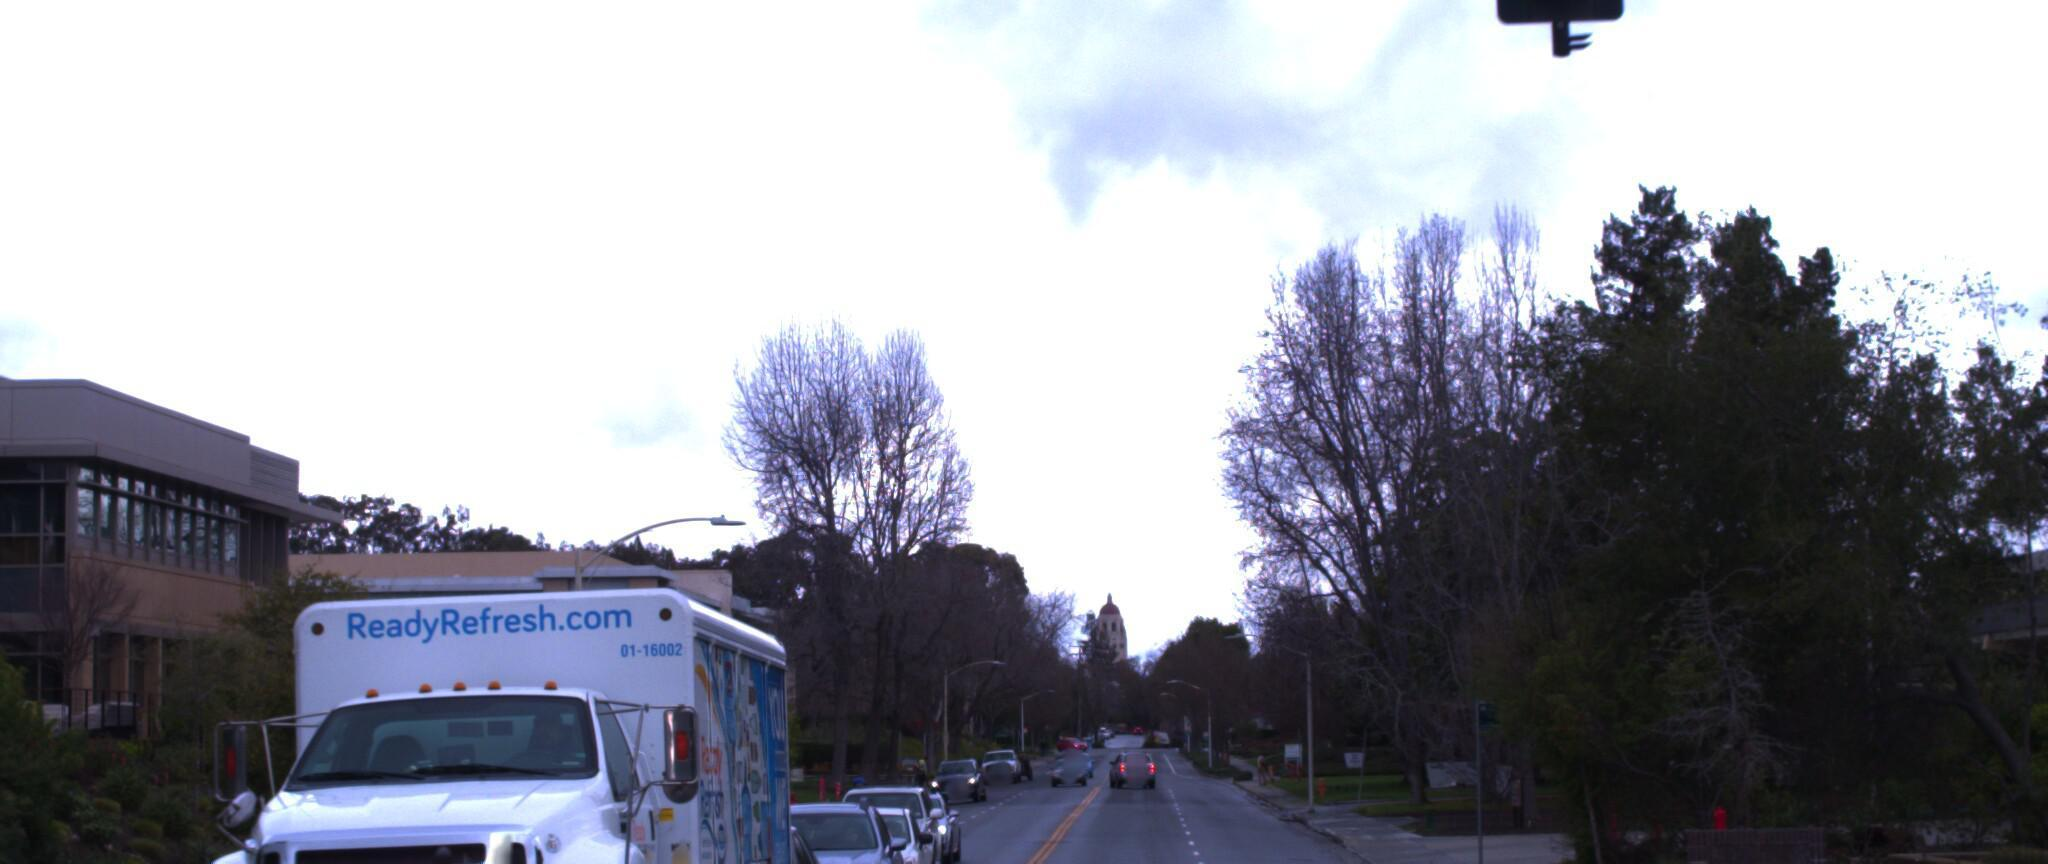car: (718, 773, 920, 864), (603, 797, 844, 864), (785, 783, 944, 864)
truck: (59, 516, 829, 864)
